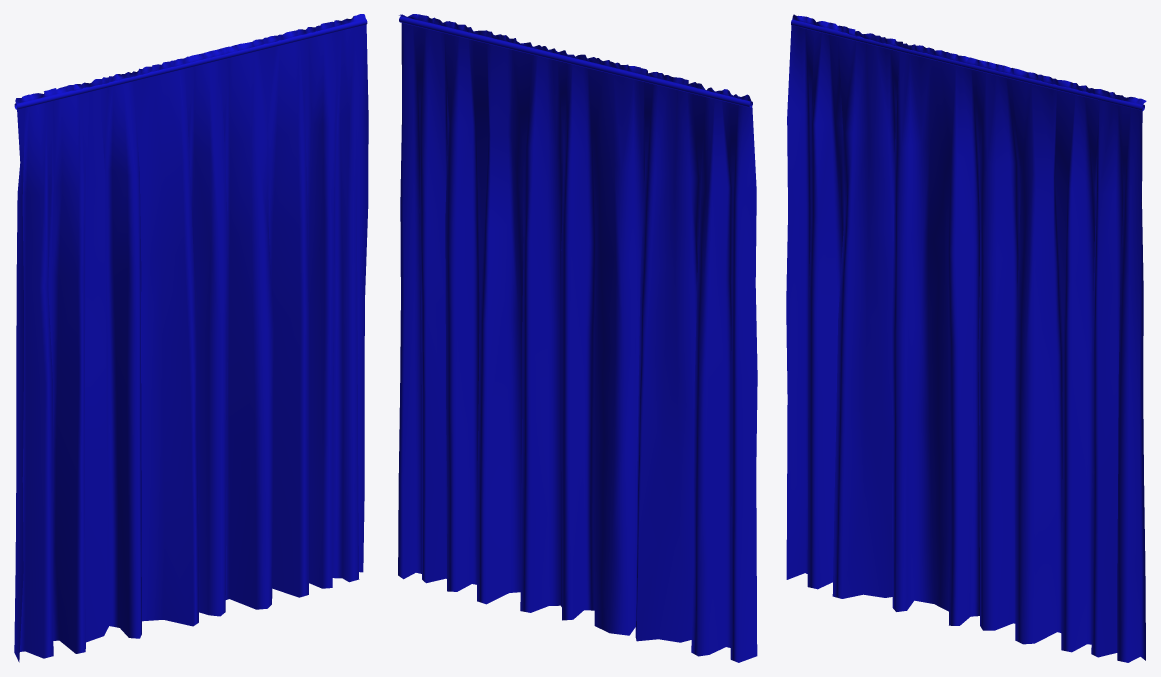
File: 60_6_Gardin.fbx
The picture shows the model from 3 angles, left to right: view 1: azimuth 30°, elevation 25°; view 2: azimuth 150°, elevation 25°; view 3: azimuth 330°, elevation 25°; orthographic projection.
Parts seen in each view (by area): view 1: SM_Gardin_60_6; view 2: SM_Gardin_60_6; view 3: SM_Gardin_60_6.
Boxes of the visible parts, x1,y1,x2,y2 form: SM_Gardin_60_6: (14, 14, 368, 662); SM_Gardin_60_6: (398, 14, 757, 662); SM_Gardin_60_6: (786, 14, 1146, 662).
Size of the model in its own units: 166 by 252 by 17.68.
